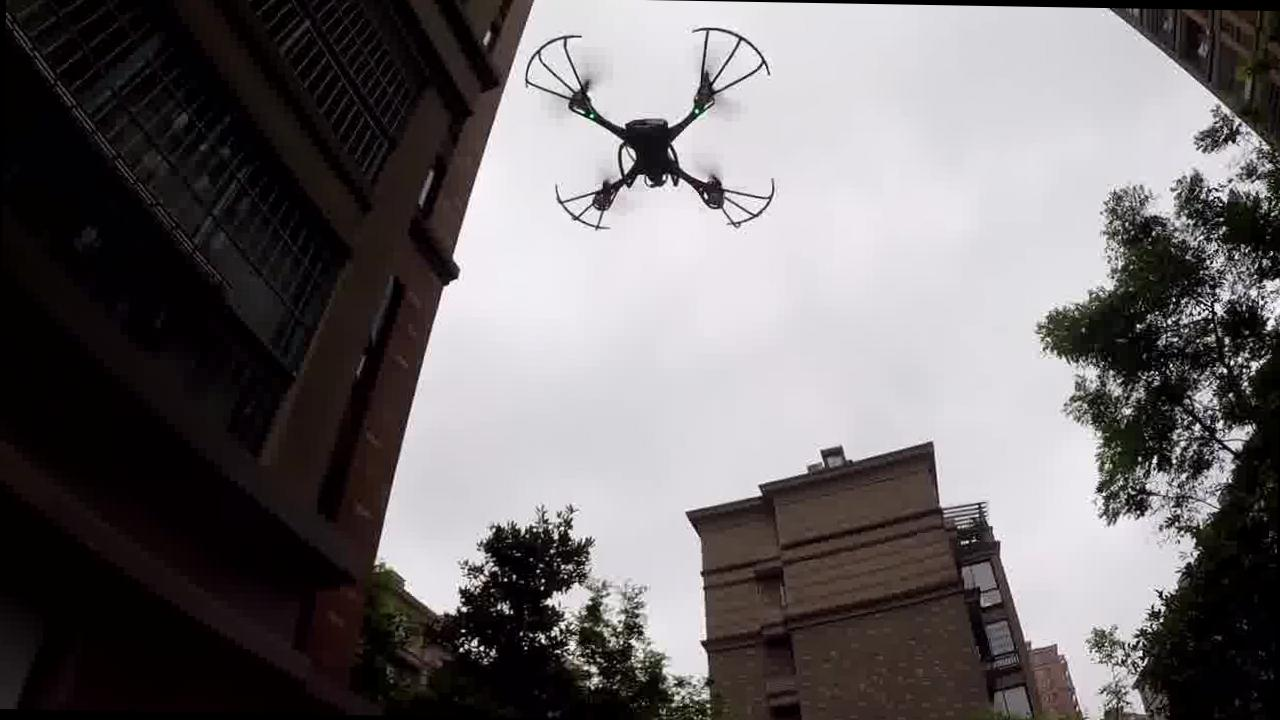drone: (516, 11, 787, 252)
